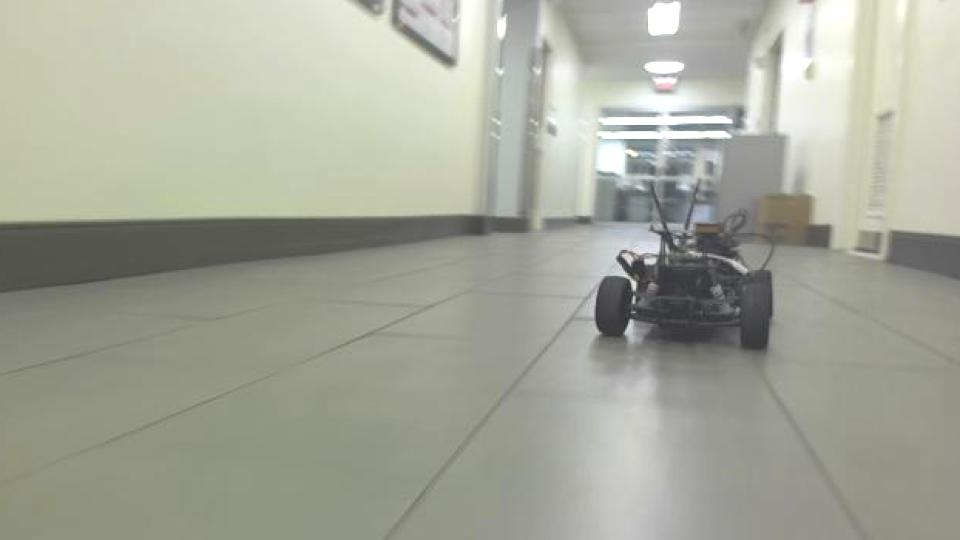car: (589, 174, 778, 352)
